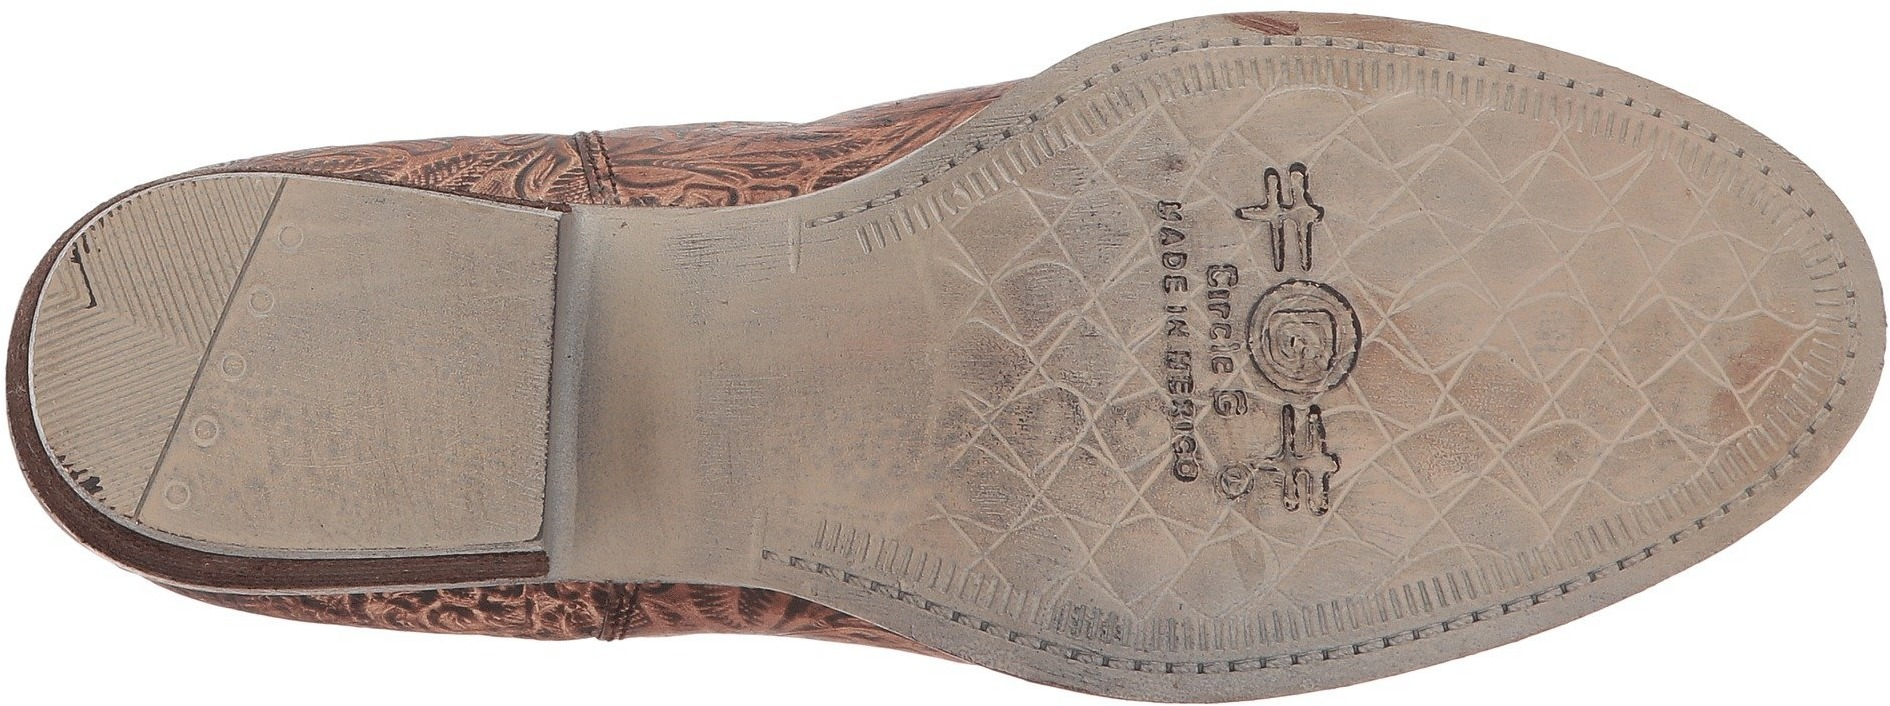other: (282, 320, 507, 551), (33, 341, 153, 452), (125, 198, 230, 314)
text: (1125, 365, 1254, 486), (1121, 222, 1235, 346)
